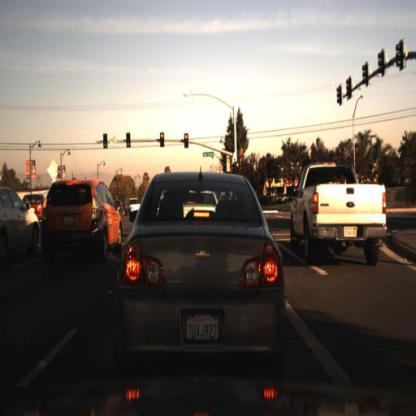car: (120, 173, 284, 370), (291, 162, 389, 269), (41, 175, 122, 267), (1, 181, 42, 264), (20, 189, 48, 224)
trafficLight-GreenLeft: (103, 130, 111, 151), (125, 131, 133, 152)
trafficLight-Red: (183, 133, 191, 152), (234, 161, 242, 179)
